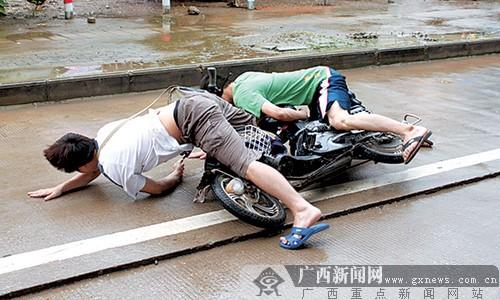fall: (15, 88, 339, 236)
